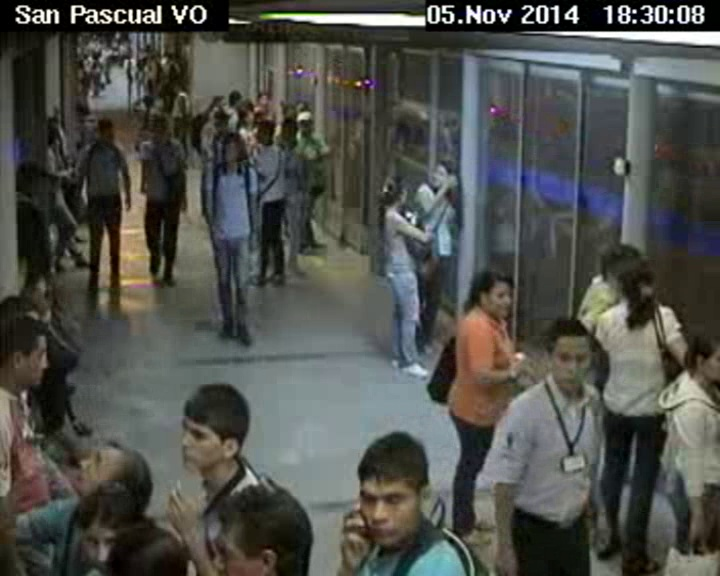person: (204, 484, 316, 576), (351, 421, 426, 553), (181, 375, 256, 479), (66, 493, 139, 563), (72, 442, 153, 500), (540, 315, 590, 406), (100, 528, 189, 576), (1, 321, 51, 396), (610, 256, 658, 330), (467, 265, 515, 323), (679, 329, 720, 392), (600, 240, 642, 287), (424, 155, 467, 195), (373, 171, 413, 212), (11, 154, 46, 200), (214, 133, 242, 168), (150, 111, 174, 146), (89, 118, 118, 144), (278, 115, 298, 141), (257, 119, 277, 144), (296, 109, 313, 134), (43, 127, 60, 147), (227, 90, 243, 109), (138, 95, 155, 111), (213, 116, 228, 132), (239, 110, 253, 127), (212, 93, 226, 109), (172, 79, 183, 97), (256, 92, 267, 103)
